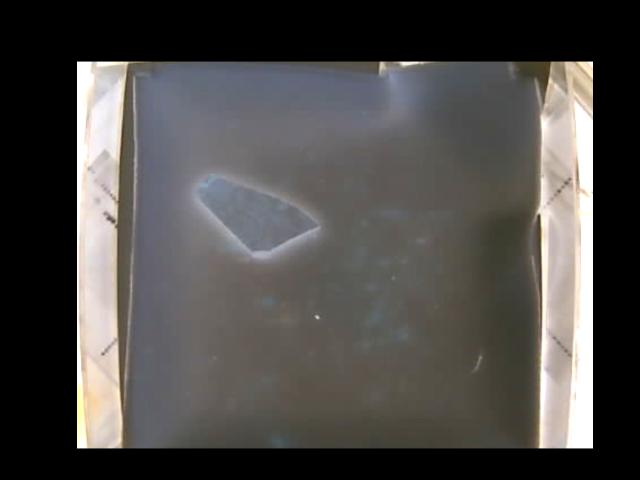China: (194, 175, 320, 255)
